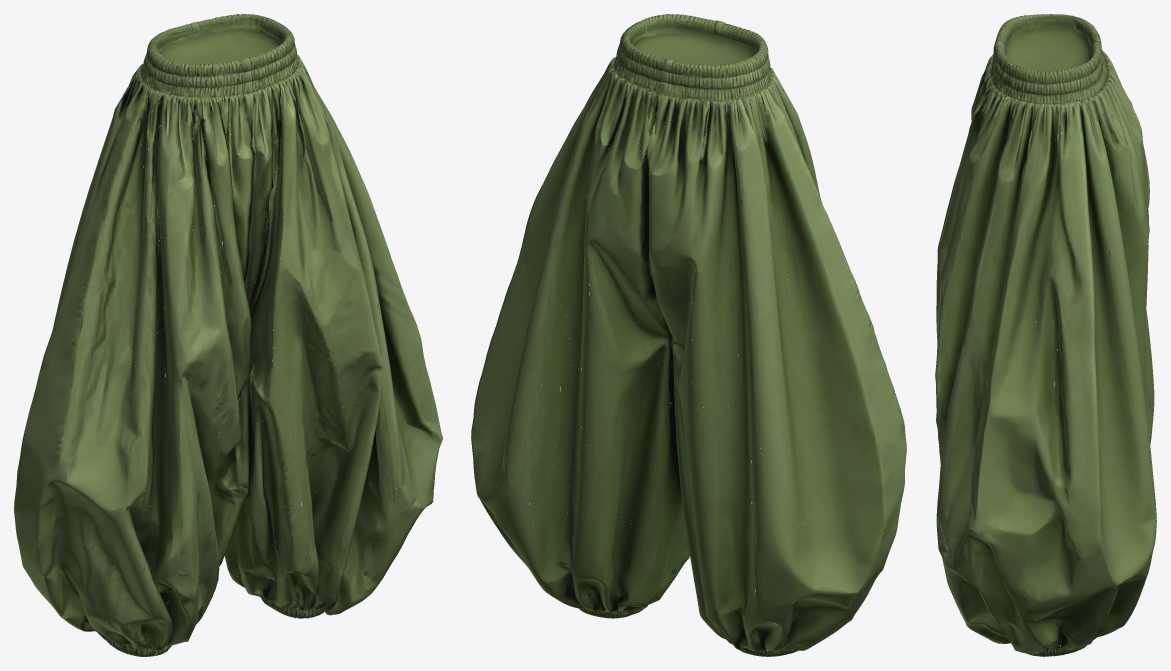
Rendered from green_balloon_pants.glb.
The picture shows the model from 3 angles, left to right: view 1: azimuth 30°, elevation 25°; view 2: azimuth 150°, elevation 25°; view 3: azimuth 270°, elevation 25°; orthographic projection. The views are drawn at different scales.
Parts seen in each view (by area): view 1: green_balloon_pants; view 2: green_balloon_pants; view 3: green_balloon_pants.
Part boxes in pixels (box(x1,y1,x2,y2)): green_balloon_pants: box(14, 14, 442, 656); green_balloon_pants: box(471, 14, 906, 656); green_balloon_pants: box(935, 14, 1156, 656).
Bounding box in the file's own units: 0.7202 × 1.02 × 0.36.
Materials: 1 (1 with a texture image).
